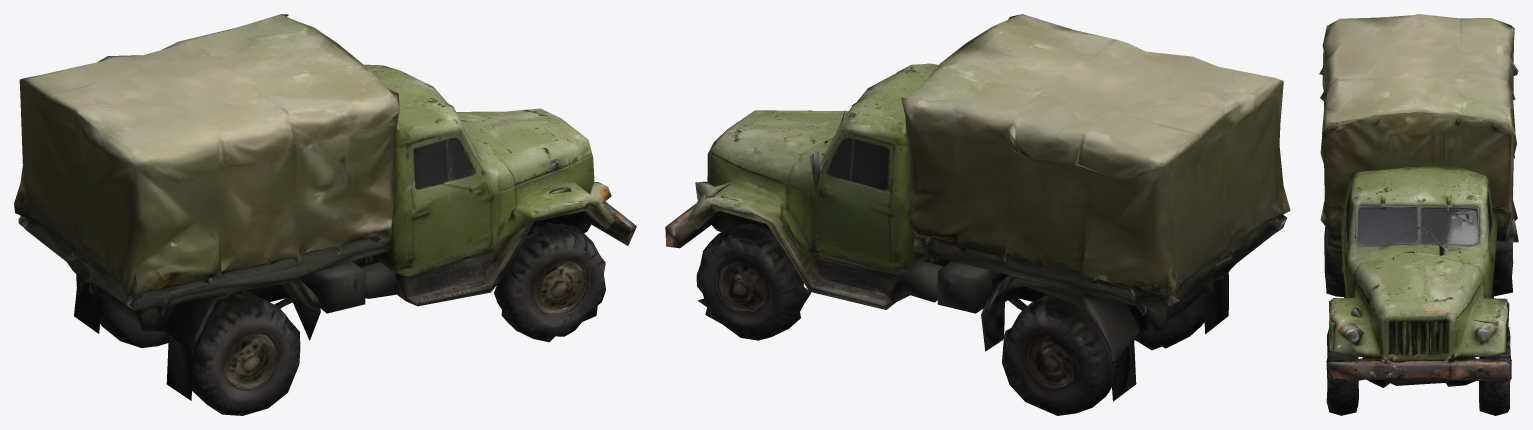
File: e_ural.glb
The picture shows the model from 3 angles, left to right: view 1: azimuth 30°, elevation 25°; view 2: azimuth 150°, elevation 25°; view 3: azimuth 270°, elevation 25°; orthographic projection. The views are drawn at different scales.
Parts seen in each view (by area): view 1: tripo_node_c30287b9-cfbe-4b9e-b8f1-a863a7e54522; view 2: tripo_node_c30287b9-cfbe-4b9e-b8f1-a863a7e54522; view 3: tripo_node_c30287b9-cfbe-4b9e-b8f1-a863a7e54522.
Boxes of the visible parts, x1,y1,x2,y2 form: tripo_node_c30287b9-cfbe-4b9e-b8f1-a863a7e54522: (14, 14, 636, 415); tripo_node_c30287b9-cfbe-4b9e-b8f1-a863a7e54522: (665, 14, 1290, 415); tripo_node_c30287b9-cfbe-4b9e-b8f1-a863a7e54522: (1319, 14, 1518, 415).
Size of the model in its own units: 1 by 0.5533 by 0.427.
Materials: 1 (1 with a texture image).
